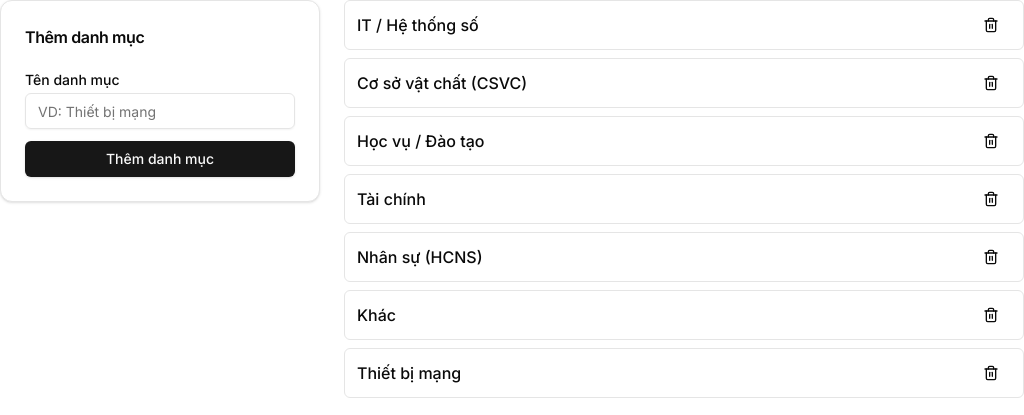
Test: CategoryManager (S8) › S8-X2: a duplicate name is rejected with a field error (422)
Type "IT / Hệ thống số" into the field labelled "Tên danh mục" at {"x": 160, "y": 111}, box left=25, top=93, right=295, bottom=129
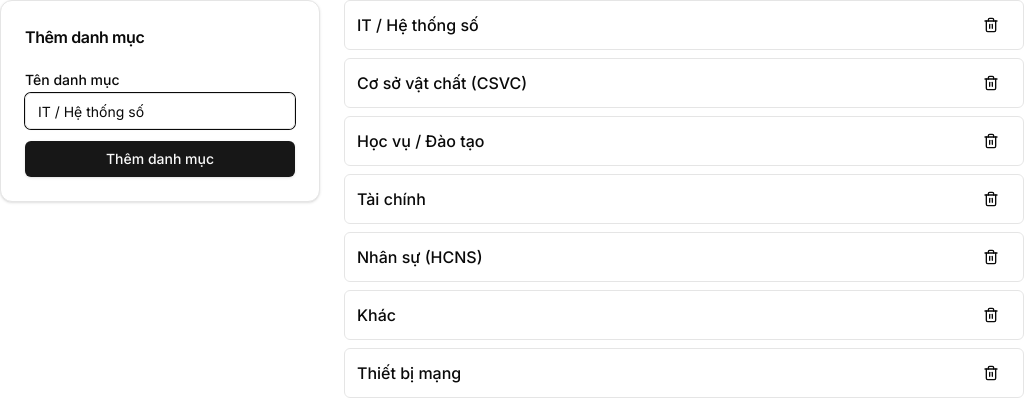
Click the button "Thêm danh mục" at {"x": 160, "y": 159}, box left=25, top=141, right=295, bottom=177
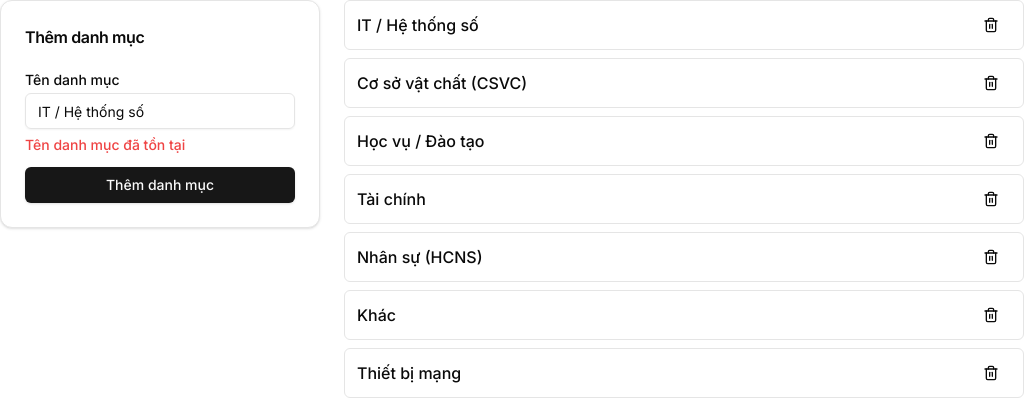
Now the text "Tên danh mục đã tồn tại" is shown, box left=25, top=136, right=185, bottom=153
